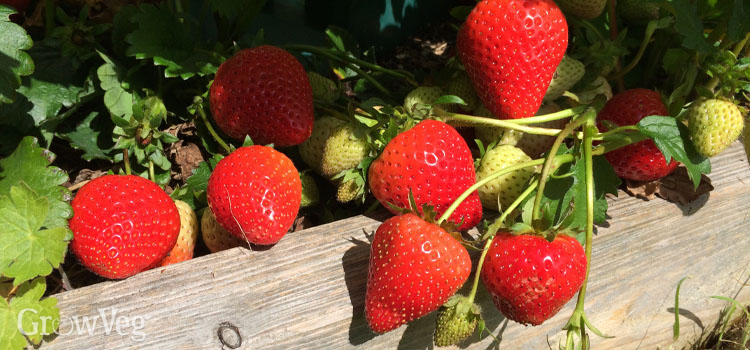ripe: (363, 212, 478, 335), (464, 0, 570, 121), (68, 171, 180, 282), (364, 120, 486, 220), (481, 223, 592, 328), (211, 44, 314, 145), (207, 144, 305, 249), (596, 87, 683, 186)
unripe: (305, 118, 375, 182), (470, 141, 535, 205), (686, 96, 745, 158), (432, 291, 486, 347), (400, 82, 455, 121), (545, 57, 589, 98), (571, 3, 608, 23)
